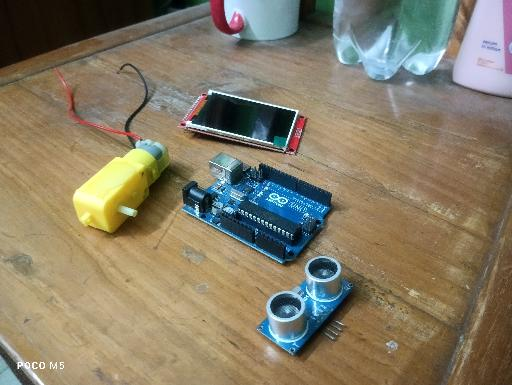Arduino: (181, 152, 333, 266)
Display: (178, 87, 308, 157)
Motor: (73, 138, 171, 234)
sensor: (256, 256, 355, 356)
